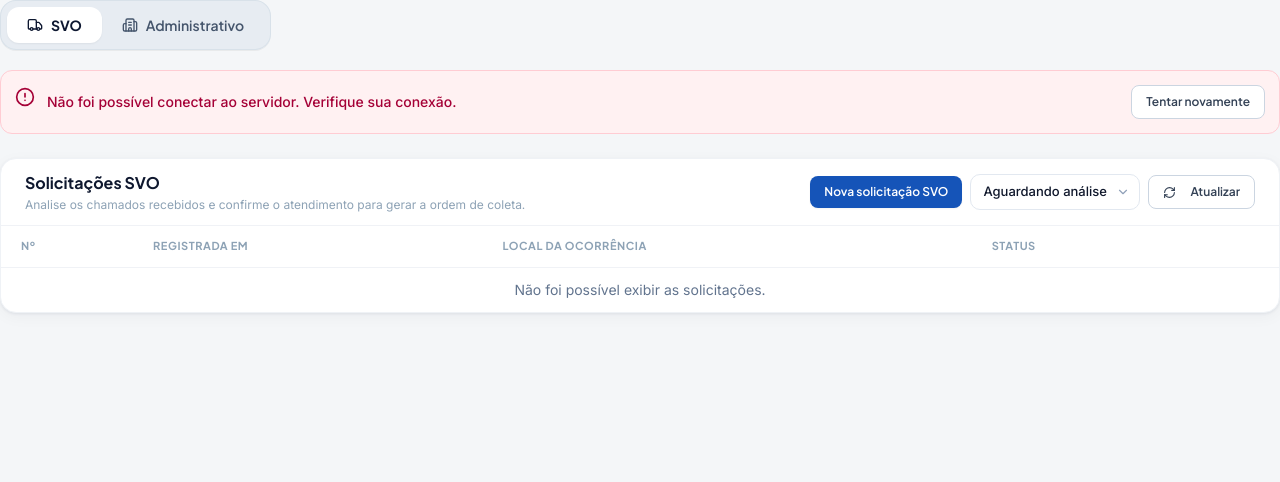
Test: SolicitacoesPage por perfil › Gestor SVO acompanha só as próprias solicitações e pode solicitar, sem analisar nem agendar
The width and height of the screenshot is (1280, 482).
Click the tab "Administrativo" at point(183, 25), box [102,7,264,43]
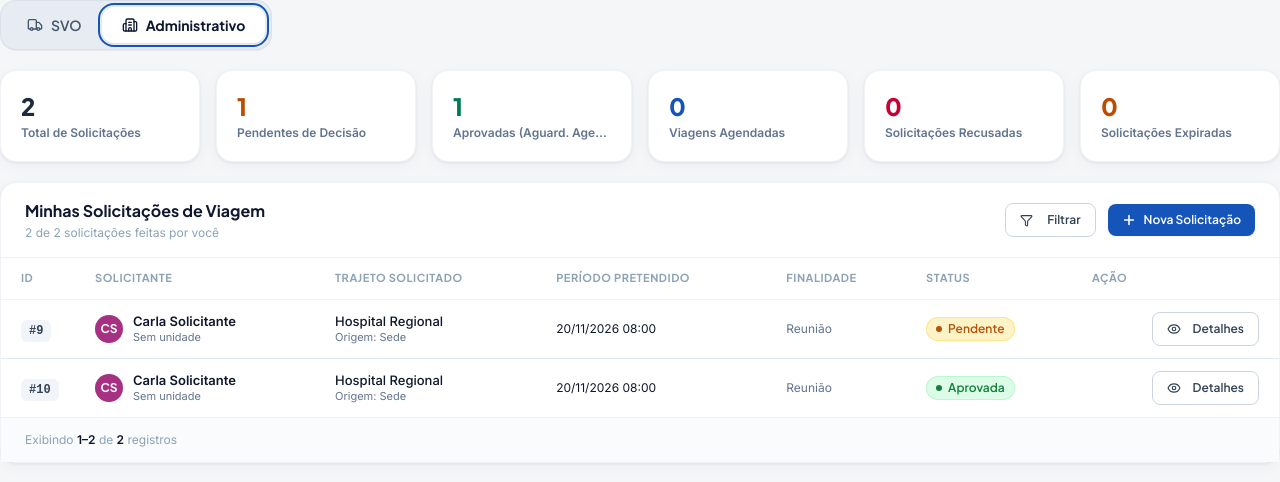
Expected: the text "Hospital Regional" is shown 2 times, [335,312,443,328]; [335,372,443,388]
Expected: the heading "Minhas Solicitações de Viagem" is shown, [25,199,265,223]
Expected: the number of buttons "Detalhes" is 2, [1152,312,1259,346]; [1152,371,1259,405]
